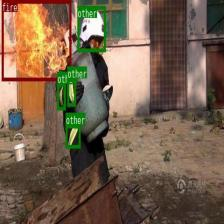fire: (2, 0, 71, 80)
